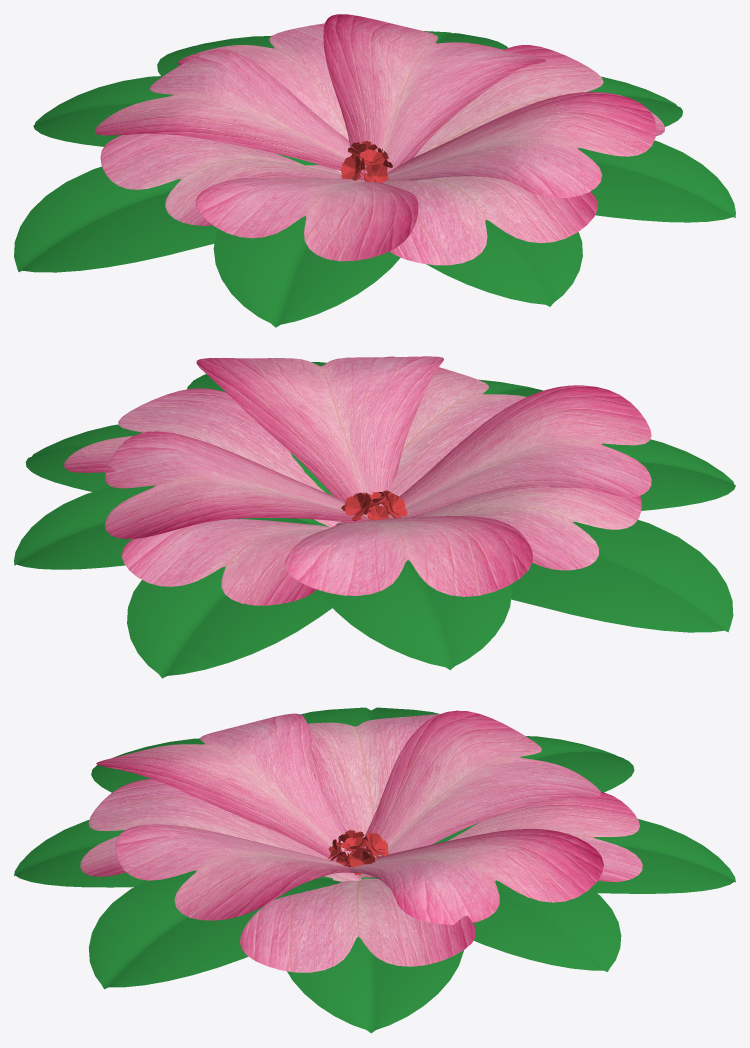
File: flornueva.fbx
3 views of the same model, one above another, from view 1: azimuth 30°, elevation 25°; view 2: azimuth 150°, elevation 25°; view 3: azimuth 270°, elevation 25° (orthographic). The views are drawn at different scales.
Parts seen in each view (by area): view 1: Plane.030, Plane.029, Plane.028, Circle.004, Plane.027, Plane.026, Circle.006, Plane.025, Circle.008, Circle.005, Plane.024, Plane.023 (+5 smaller); view 2: Plane.029, Plane.027, Plane.030, Circle.004, Plane.028, Circle.002, Plane.023, Circle.007, Plane.025, Plane.024, Circle.009, Plane.026 (+5 smaller); view 3: Plane.028, Plane.027, Plane.030, Plane.024, Plane.029, Circle.008, Circle.009, Plane.025, Circle.003, Plane.026, Plane.023, Circle.002 (+5 smaller).
Part boxes in pixels (x1=…): Plane.030: x1=323, y1=14, x2=546, y2=180; Plane.029: x1=385, y1=92, x2=656, y2=198; Plane.028: x1=94, y1=49, x2=367, y2=177; Circle.004: x1=14, y1=166, x2=217, y2=272; Plane.027: x1=195, y1=177, x2=418, y2=261; Plane.026: x1=383, y1=176, x2=597, y2=265; Circle.006: x1=213, y1=216, x2=400, y2=327; Plane.025: x1=100, y1=134, x2=342, y2=225; Circle.008: x1=577, y1=140, x2=735, y2=222; Circle.005: x1=426, y1=220, x2=582, y2=306; Plane.024: x1=413, y1=45, x2=664, y2=157; Plane.023: x1=178, y1=23, x2=348, y2=140; Plane.029: x1=196, y1=356, x2=443, y2=506; Plane.027: x1=387, y1=385, x2=651, y2=518; Plane.030: x1=104, y1=431, x2=368, y2=539; Circle.004: x1=511, y1=520, x2=733, y2=632; Plane.028: x1=284, y1=516, x2=532, y2=596; Circle.002: x1=127, y1=566, x2=332, y2=678; Plane.023: x1=121, y1=518, x2=331, y2=605; Circle.007: x1=318, y1=560, x2=511, y2=670; Plane.025: x1=416, y1=483, x2=641, y2=570; Plane.024: x1=64, y1=388, x2=342, y2=527; Circle.009: x1=14, y1=485, x2=326, y2=569; Plane.026: x1=385, y1=356, x2=526, y2=496; Plane.028: x1=355, y1=710, x2=600, y2=878; Plane.027: x1=96, y1=713, x2=351, y2=861; Plane.030: x1=349, y1=829, x2=603, y2=924; Plane.024: x1=240, y1=878, x2=475, y2=972; Plane.029: x1=115, y1=824, x2=350, y2=920; Circle.008: x1=89, y1=871, x2=341, y2=989; Circle.009: x1=473, y1=880, x2=621, y2=971; Plane.025: x1=307, y1=714, x2=439, y2=837; Circle.003: x1=287, y1=937, x2=463, y2=1033; Plane.026: x1=80, y1=779, x2=361, y2=881; Plane.023: x1=447, y1=792, x2=642, y2=881; Circle.002: x1=591, y1=819, x2=735, y2=893.
Size of the model in its own units: 220 by 34.2 by 207.
Materials: 17 (8 with a texture image).
